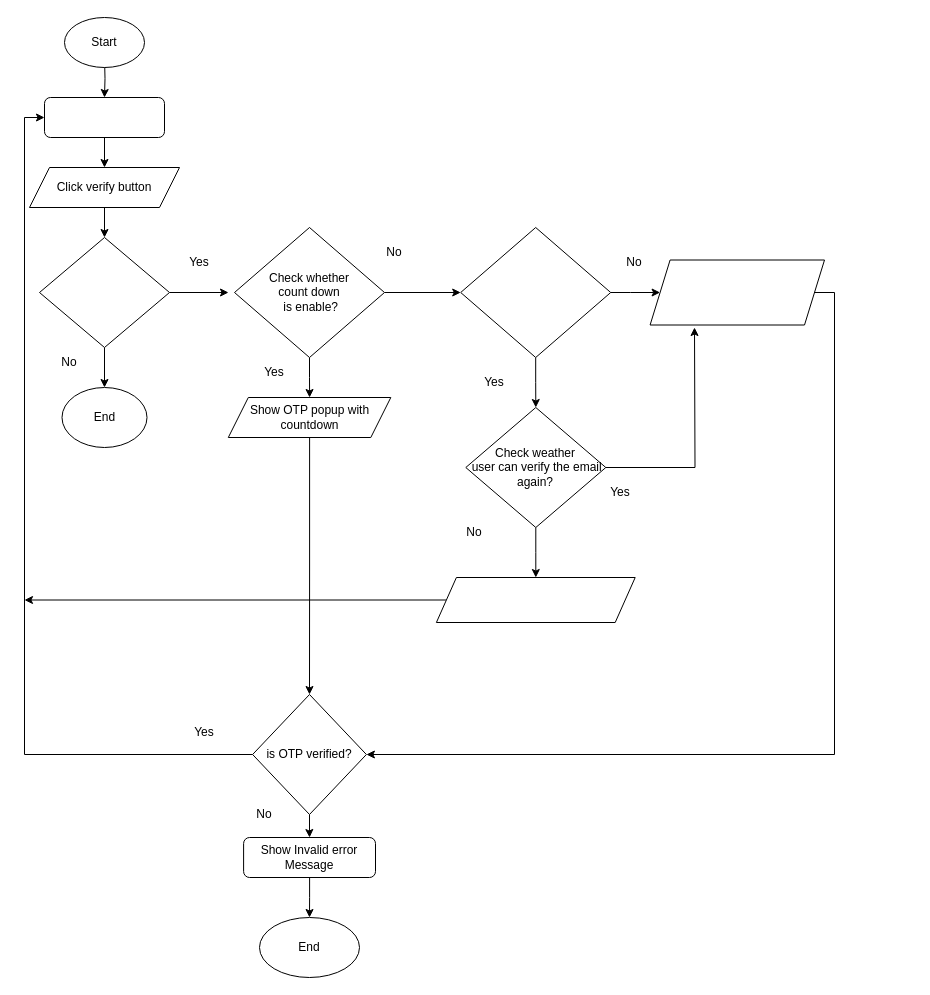
Some shapes in this 930 by 995 pixel diagram are drawn without their labels. Each missing label, with the centre of its shape:
"check whether an email is available ?" goes at (x=104, y=292).
"Check whether user reach maximus count of tries ?" goes at (x=535, y=292).
"Shows an Error message that coming from the backend" goes at (x=535, y=599).
"Verify Email and show OTP popup with countdown" goes at (x=736, y=292).
"View Profile" goes at (x=104, y=117).
